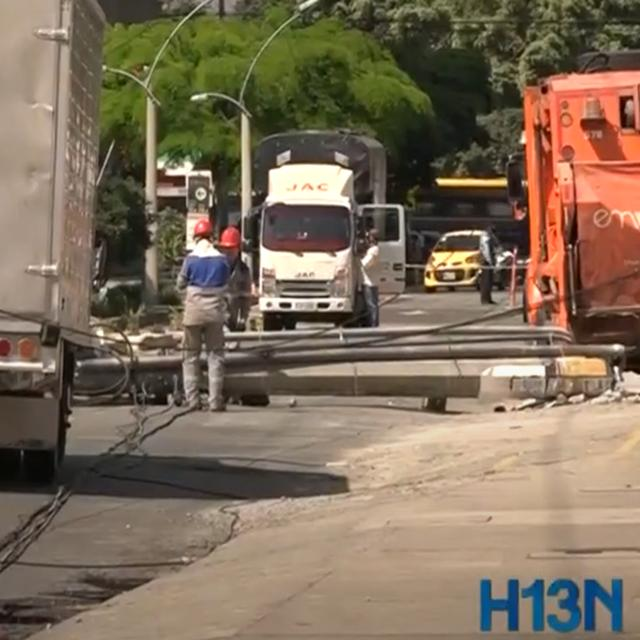Inclined Pole: (65, 321, 632, 406)
